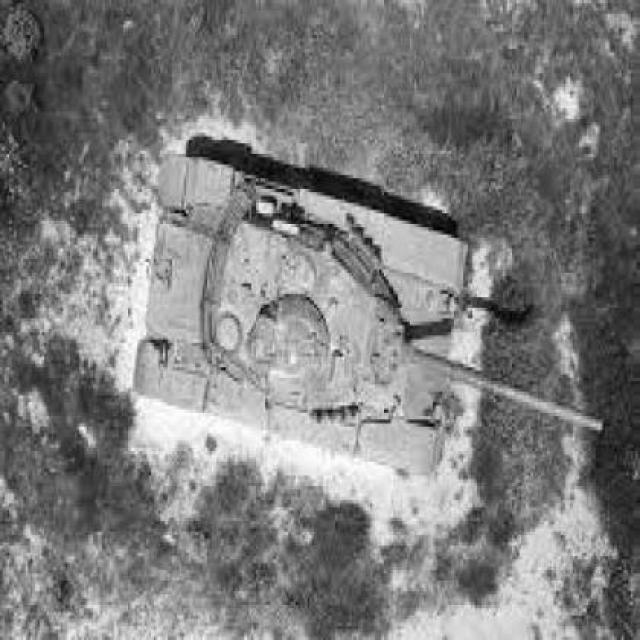tank: (133, 152, 605, 511)
